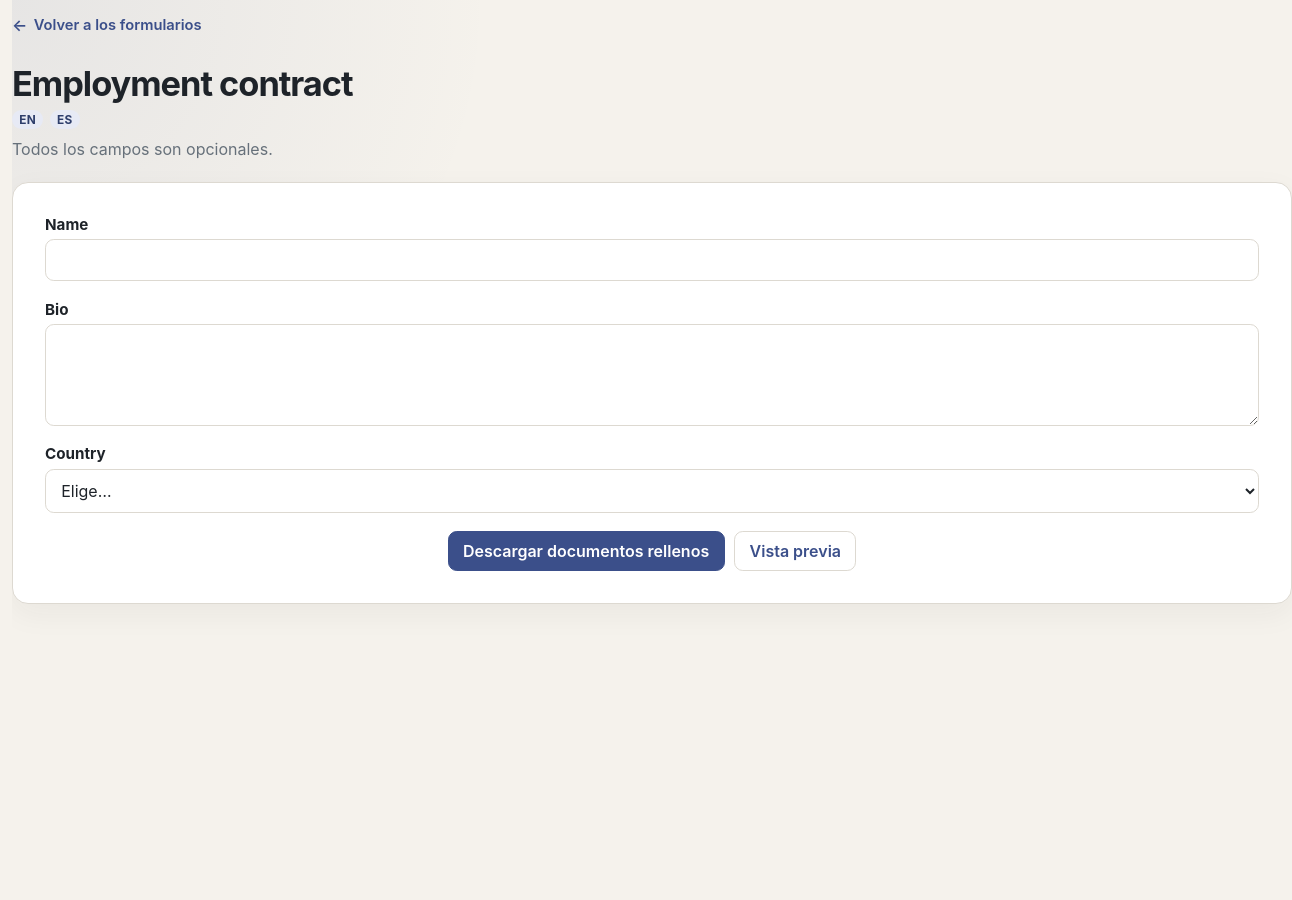
Test: FormPage › localizes form fill failures
Type "Ada" into the field labelled "Name" at (652, 260), box [45, 239, 1259, 281]
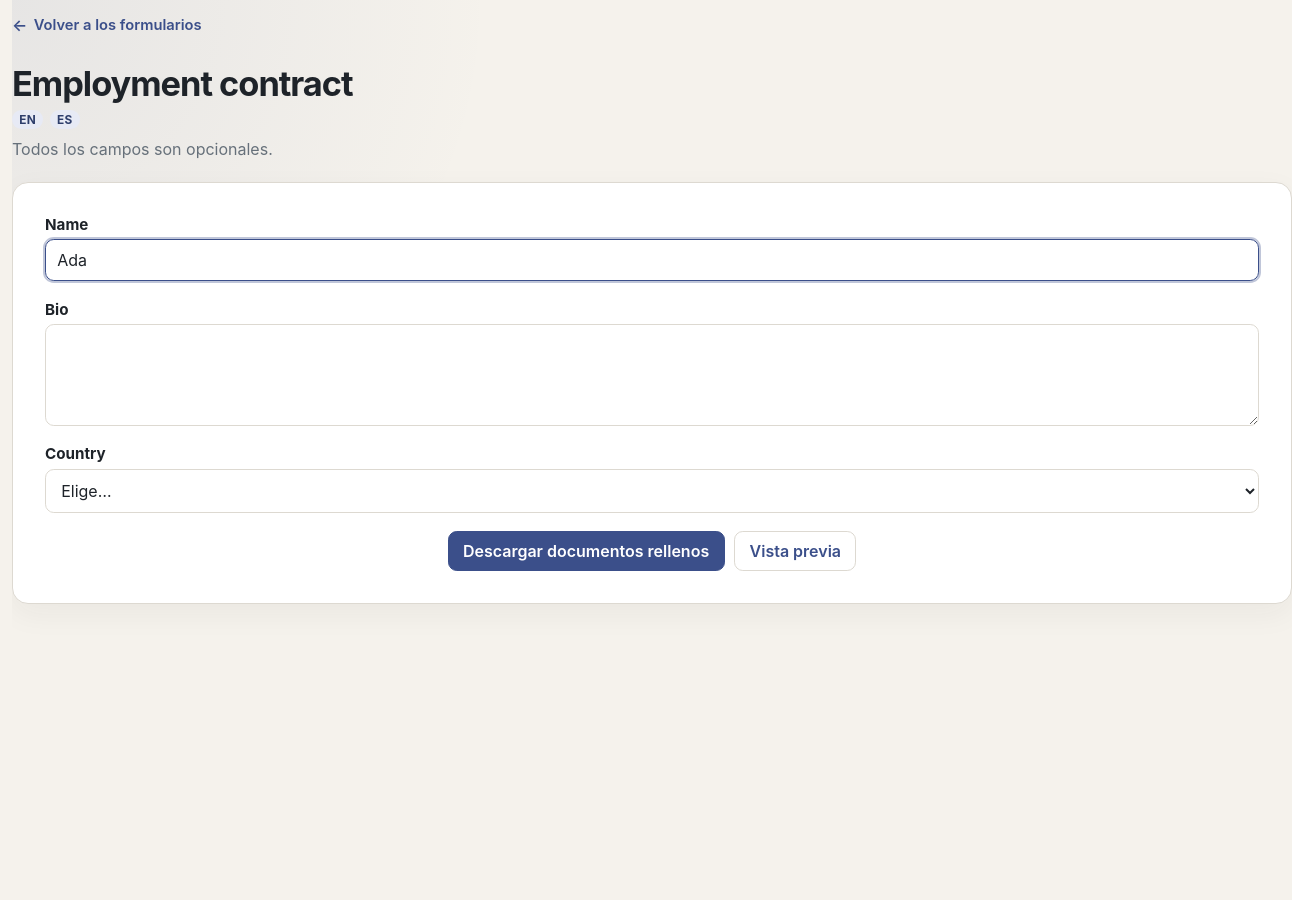
Click the button "Descargar documentos rellenos" at (586, 551), box [448, 531, 725, 571]
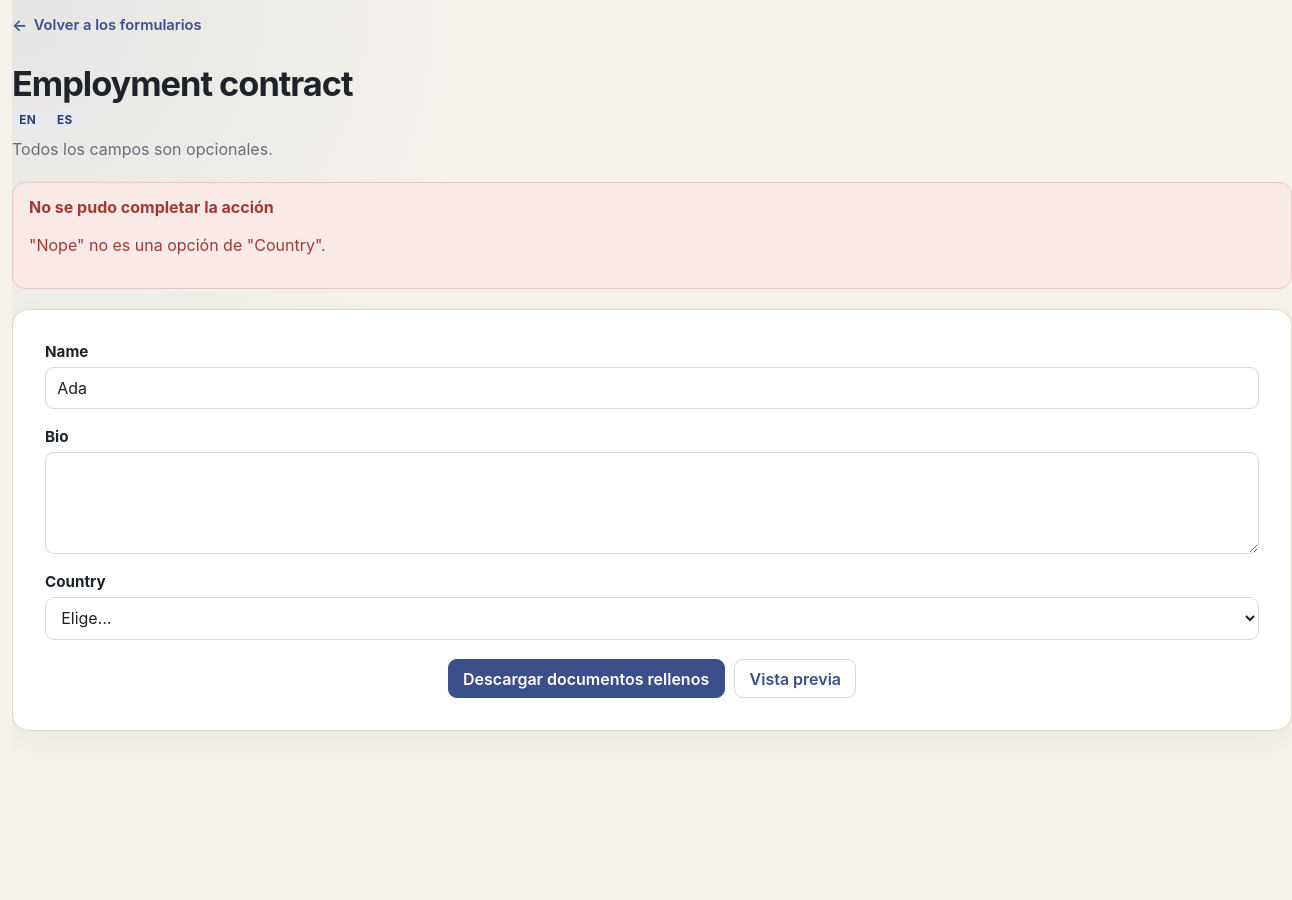
Check: the text "\"Nope\" no es una opción de \"Country\"." is shown, box [29, 235, 326, 255]
